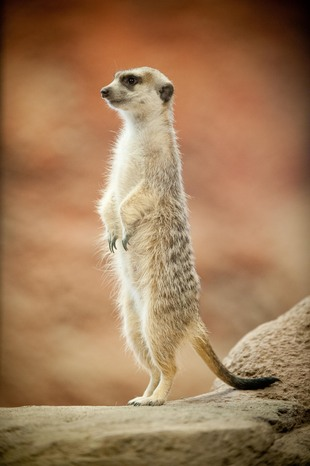meerkat: (83, 60, 288, 414)
